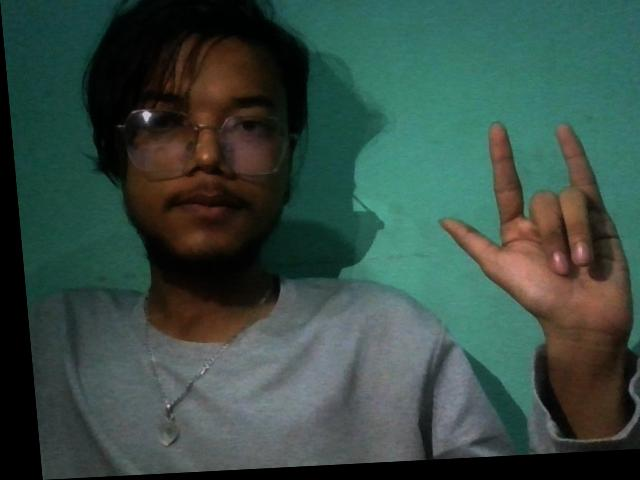I Love You: (424, 115, 640, 372)
